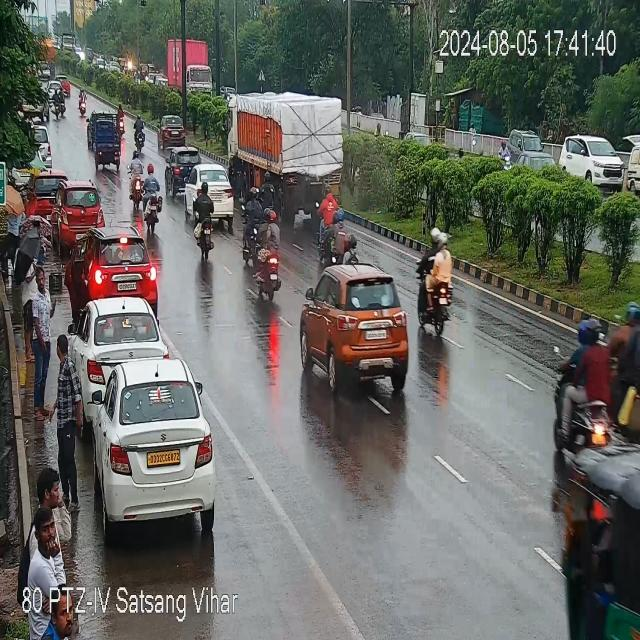2-wheelers: (549, 308, 621, 458), (414, 226, 464, 340), (602, 313, 640, 426), (253, 209, 280, 303), (190, 181, 218, 251), (142, 168, 162, 237), (50, 73, 76, 118), (328, 212, 350, 262), (129, 150, 142, 218), (132, 112, 148, 152)
auto: (94, 116, 122, 167)
car: (91, 356, 220, 526), (303, 265, 419, 395), (546, 437, 636, 532), (77, 297, 161, 383), (75, 227, 160, 300), (563, 131, 633, 194), (192, 167, 238, 222), (54, 186, 102, 237), (501, 130, 564, 168), (169, 150, 198, 200), (160, 113, 186, 148)
pedestrian: (20, 466, 76, 622), (47, 339, 82, 474), (27, 266, 58, 412)
truck: (235, 90, 352, 202), (165, 36, 214, 99)
